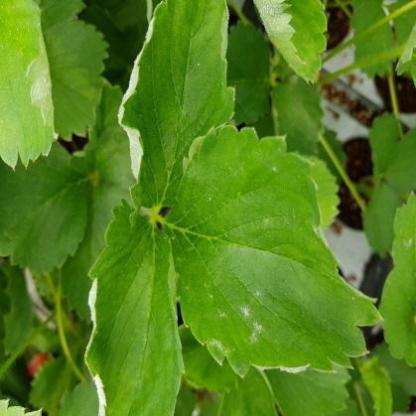Strawberry_Powdery_Mildew_Leaf: (161, 123, 385, 379), (118, 0, 236, 226), (84, 198, 186, 415), (0, 0, 60, 171), (254, 0, 327, 86)
